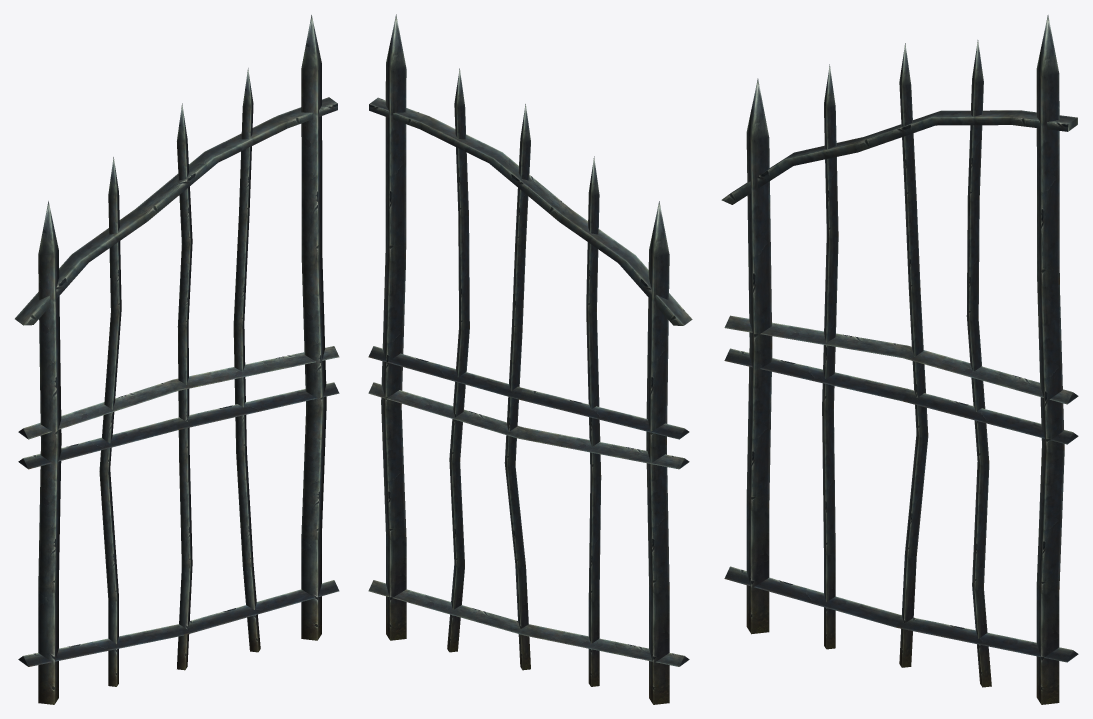
File: C_tiemen001.fbx
3 views of the same model, side by side, from view 1: azimuth 30°, elevation 25°; view 2: azimuth 150°, elevation 25°; view 3: azimuth 330°, elevation 25° (orthographic). The views are drawn at different scales.
Visible parts, largest first — view 1: C_tiemen001; view 2: C_tiemen001; view 3: C_tiemen001.
Boxes of the visible parts, box(x1,y1,x2,y2) form: C_tiemen001: box(15, 15, 339, 704); C_tiemen001: box(368, 14, 692, 704); C_tiemen001: box(721, 15, 1078, 704).
Bounding box in the file's own units: 236 × 445 × 21.95.
